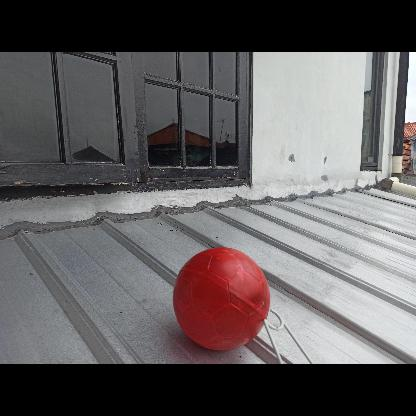red_ball: (172, 247, 274, 349)
